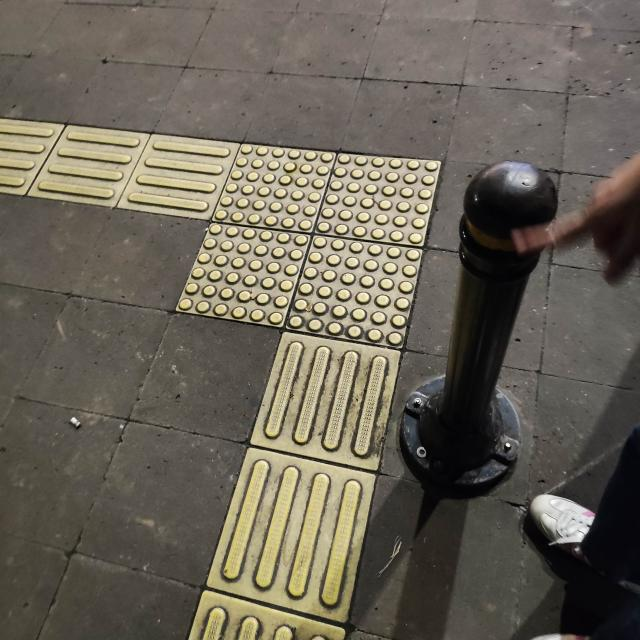kiri: (61, 74, 447, 421)
